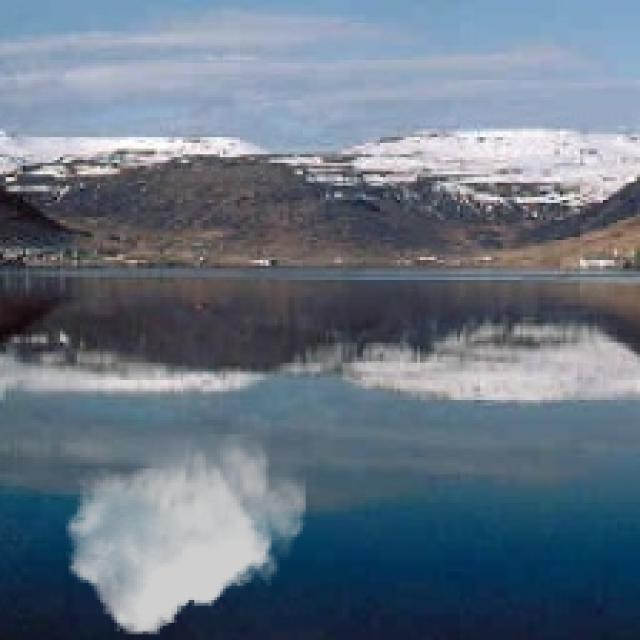Smoke: (66, 434, 306, 634)
